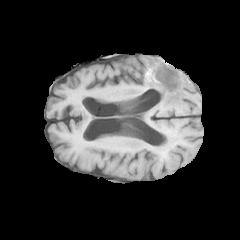glioma: (140, 58, 190, 143)
